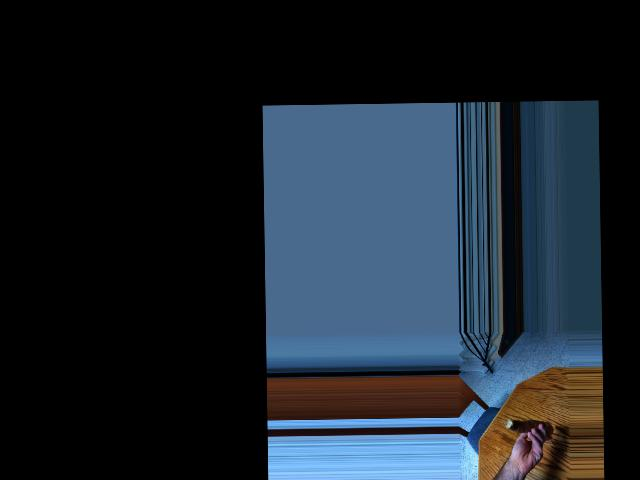sweet_potato: (504, 417, 552, 439)
